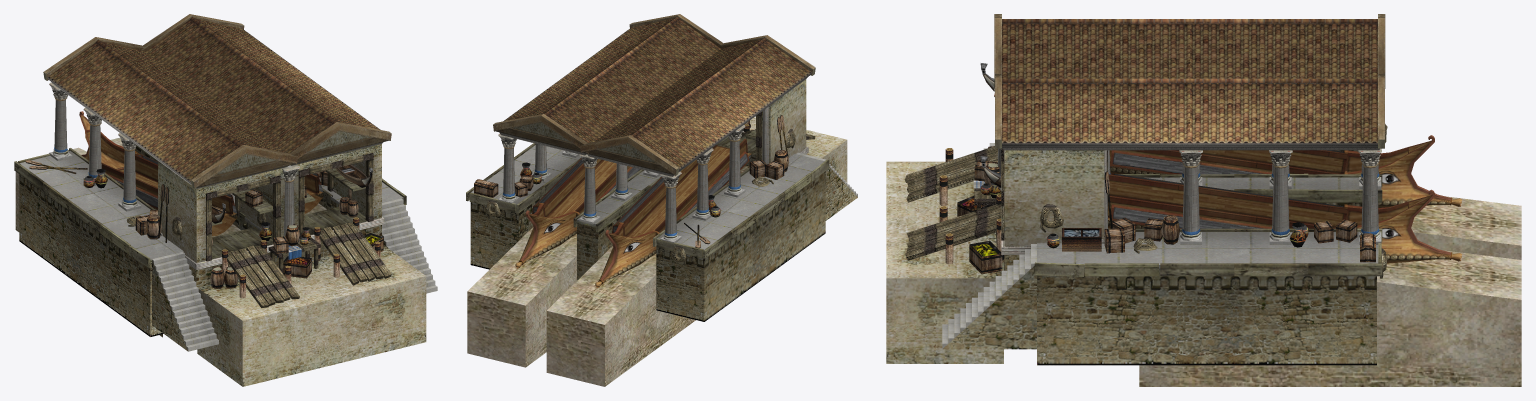
The model's file is mace_dock.glb.
3 views of the same model, side by side, from view 1: azimuth 30°, elevation 25°; view 2: azimuth 150°, elevation 25°; view 3: azimuth 270°, elevation 25° (orthographic). The views are drawn at different scales.
Parts seen in each view (by area): view 1: mace_dock_part1, mace_dock_part4, mace_dock_part5, mace_dock_part0, mace_dock_part3, mace_dock_part6, mace_dock_part2; view 2: mace_dock_part1, mace_dock_part0, mace_dock_part3, mace_dock_part4, mace_dock_part5, mace_dock_part6; view 3: mace_dock_part1, mace_dock_part0, mace_dock_part3, mace_dock_part4, mace_dock_part5, mace_dock_part2, mace_dock_part6.
Part boxes in pixels (bbox=[...]): mace_dock_part1: bbox=[14, 14, 426, 386]; mace_dock_part4: bbox=[25, 100, 391, 307]; mace_dock_part5: bbox=[20, 151, 437, 351]; mace_dock_part0: bbox=[15, 17, 383, 337]; mace_dock_part3: bbox=[79, 111, 323, 235]; mace_dock_part6: bbox=[49, 82, 299, 182]; mace_dock_part2: bbox=[212, 164, 372, 223]; mace_dock_part1: bbox=[466, 14, 857, 321]; mace_dock_part0: bbox=[467, 16, 811, 386]; mace_dock_part3: bbox=[515, 139, 751, 288]; mace_dock_part4: bbox=[474, 107, 815, 266]; mace_dock_part5: bbox=[471, 145, 857, 249]; mace_dock_part6: bbox=[498, 125, 745, 188]; mace_dock_part1: bbox=[886, 14, 1385, 365]; mace_dock_part0: bbox=[998, 19, 1521, 386]; mace_dock_part3: bbox=[1108, 135, 1462, 263]; mace_dock_part4: bbox=[904, 124, 1387, 278]; mace_dock_part5: bbox=[942, 143, 1381, 348]; mace_dock_part2: bbox=[980, 63, 1101, 251]; mace_dock_part6: bbox=[994, 88, 1381, 168].
Size of the model in its own units: 2.94 by 2.44 by 4.8.
Materials: 7 (7 with a texture image).
